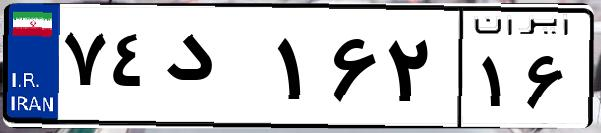1: (270, 28, 330, 110), (475, 38, 525, 113)
2: (385, 28, 445, 110)
4: (110, 28, 158, 98)
6: (330, 28, 385, 110), (525, 38, 570, 115)
7: (57, 26, 110, 100)
د: (158, 20, 270, 120)
